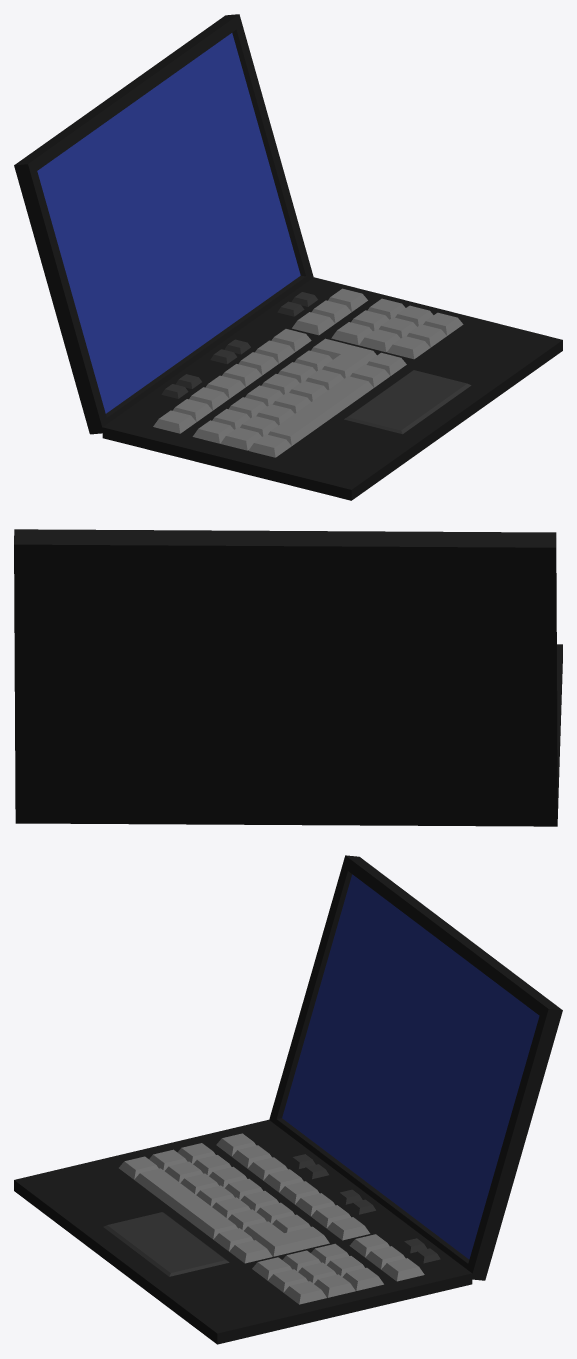
Rendered from maytinh.001.fbx.
3 views of the same model, one above another, from view 1: azimuth 30°, elevation 25°; view 2: azimuth 150°, elevation 25°; view 3: azimuth 270°, elevation 25° (orthographic). The views are drawn at different scales.
Visible parts, largest first — view 1: maytinh.001; view 2: maytinh.001; view 3: maytinh.001.
Part boxes in pixels (<box>): maytinh.001: <box>14,14,562,500</box>; maytinh.001: <box>14,529,562,826</box>; maytinh.001: <box>14,855,562,1344</box>.
Bounding box in the file's own units: 124 × 63.46 × 123.
